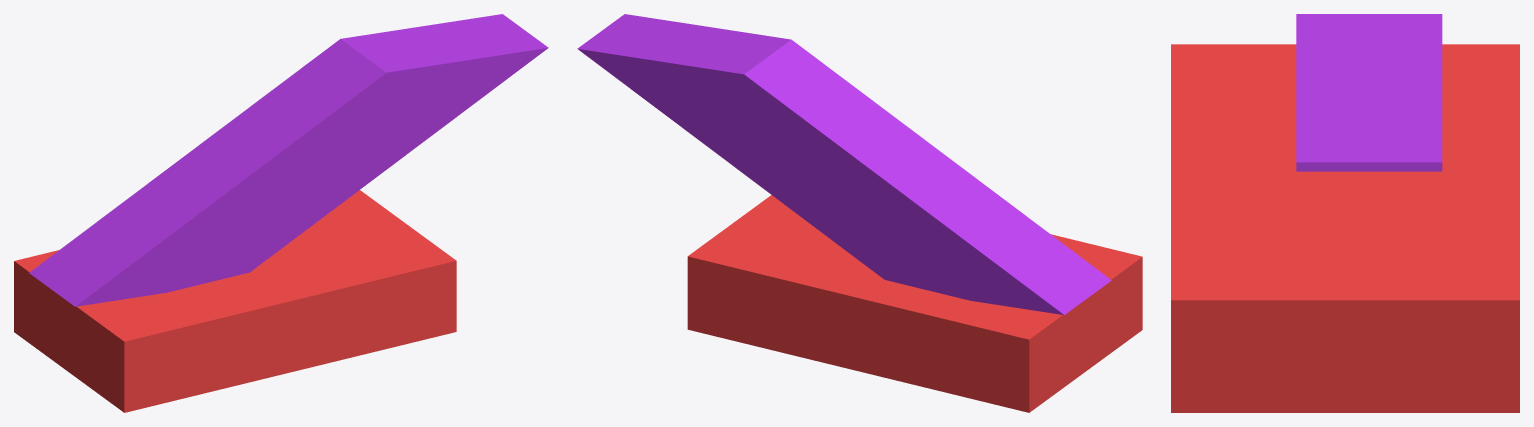
The model's file is parent2.fbx.
The picture shows the model from 3 angles, left to right: view 1: azimuth 30°, elevation 25°; view 2: azimuth 150°, elevation 25°; view 3: azimuth 270°, elevation 25°; orthographic projection. The views are drawn at different scales.
Parts seen in each view (by area): view 1: Cube.004, Cube.003; view 2: Cube.004, Cube.003; view 3: Cube.003, Cube.004.
Part boxes in pixels (x1,y1,x2,y2): Cube.004: (29, 14, 548, 306); Cube.003: (14, 190, 456, 412); Cube.004: (577, 14, 1111, 314); Cube.003: (687, 195, 1142, 412); Cube.003: (1171, 44, 1519, 412); Cube.004: (1296, 14, 1442, 171).
Bounding box in the file's own units: 6.08 × 2.92 × 2.45.
